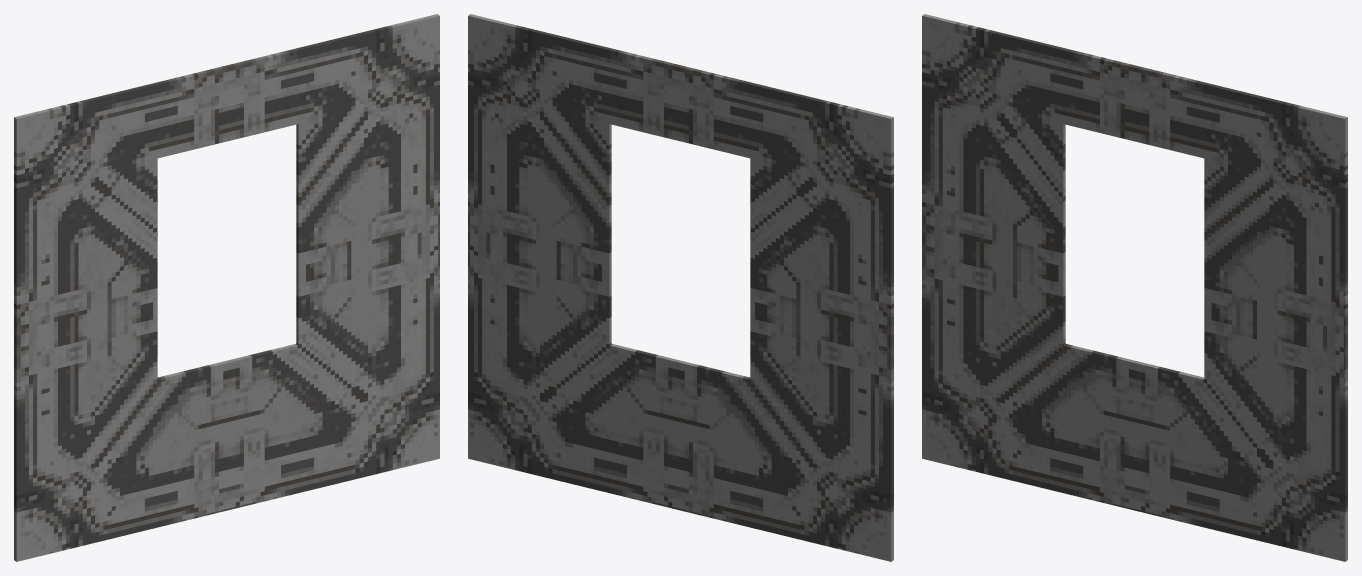
File: Wall _Hole.fbx
The picture shows the model from 3 angles, left to right: view 1: azimuth 30°, elevation 25°; view 2: azimuth 150°, elevation 25°; view 3: azimuth 330°, elevation 25°; orthographic projection.
Visible parts, largest first — view 1: Plane.001; view 2: Plane.001; view 3: Plane.001.
Part boxes in pixels (x1,y1,x2,y2): Plane.001: (14, 14, 439, 561); Plane.001: (468, 14, 893, 561); Plane.001: (922, 14, 1347, 561).
Size of the model in its own units: 1000 by 1000 by 10.
